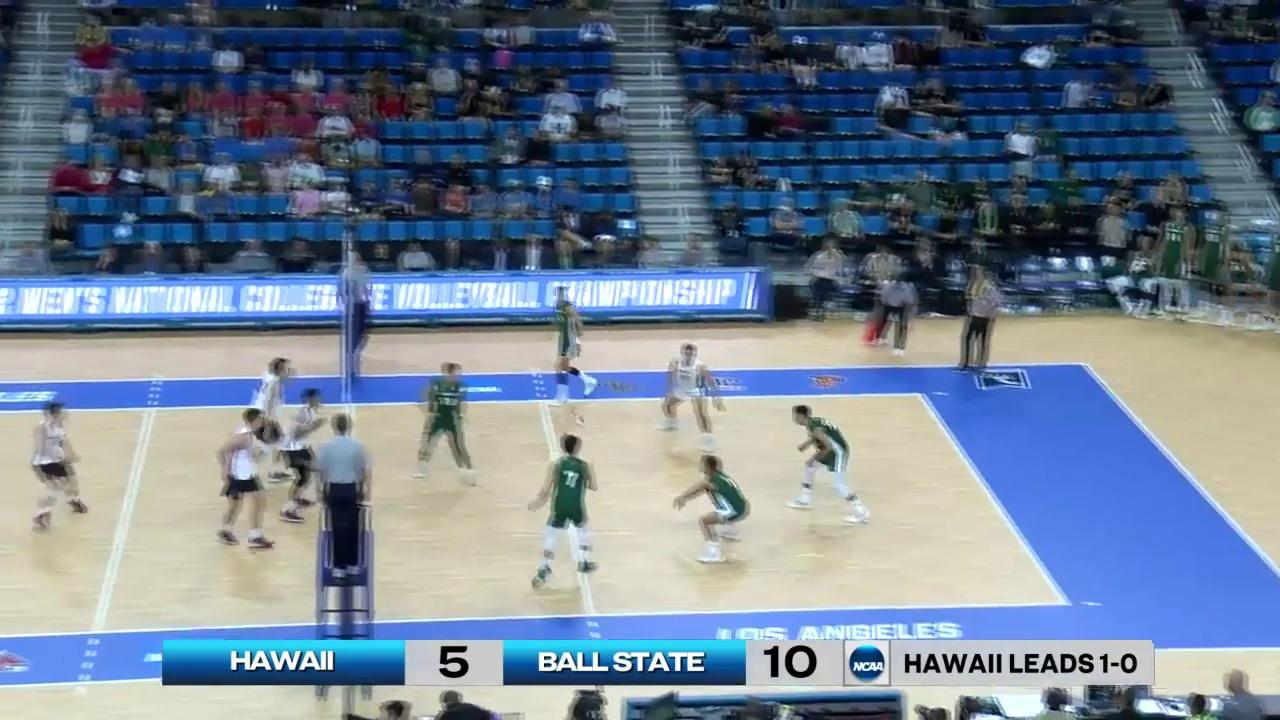player: (529, 437, 600, 587), (788, 405, 869, 523), (219, 408, 280, 550), (24, 400, 86, 530), (676, 456, 749, 564), (414, 363, 479, 484), (244, 355, 299, 493), (278, 386, 326, 522), (661, 346, 724, 448), (550, 286, 601, 403)
refree: (315, 416, 374, 574), (864, 278, 915, 359), (341, 254, 371, 358)
